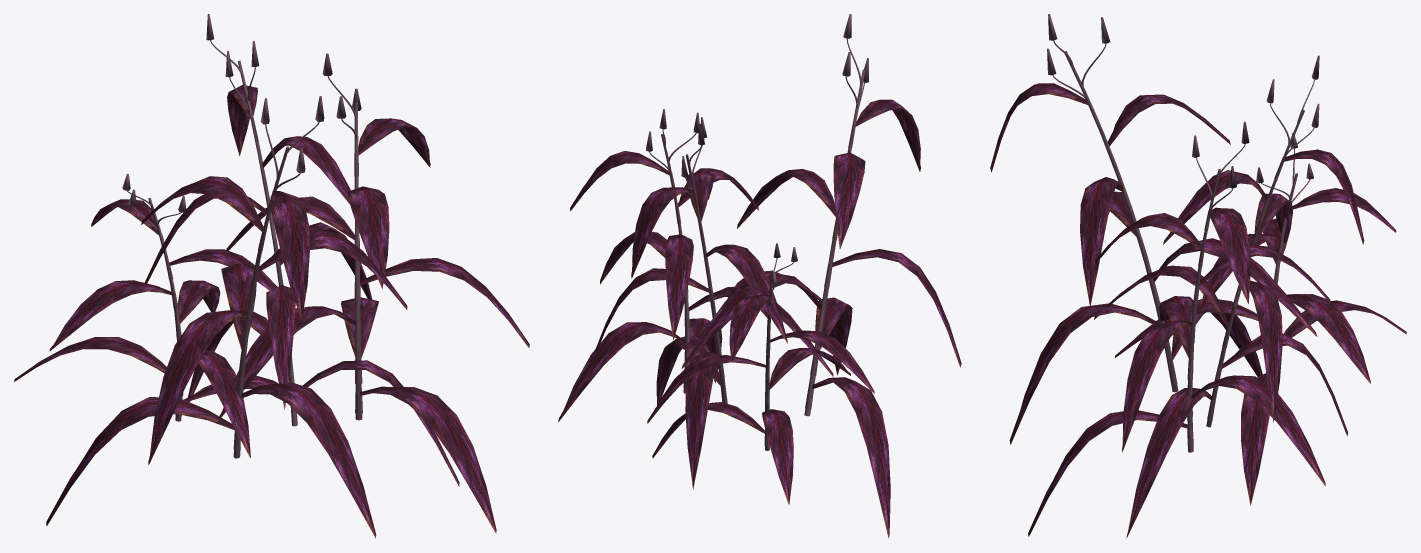
The model's file is finegrass_11.glb.
The picture shows the model from 3 angles, left to right: view 1: azimuth 30°, elevation 25°; view 2: azimuth 150°, elevation 25°; view 3: azimuth 270°, elevation 25°; orthographic projection. The views are drawn at different scales.
Parts seen in each view (by area): view 1: export; view 2: export; view 3: export.
Boxes of the visible parts, x1,y1,x2,y2 form: export: (14,14,529,538); export: (558,14,961,537); export: (990,14,1406,537).
Size of the model in its own units: 1.27 by 1.42 by 1.18.
2 materials, 2 textured.
